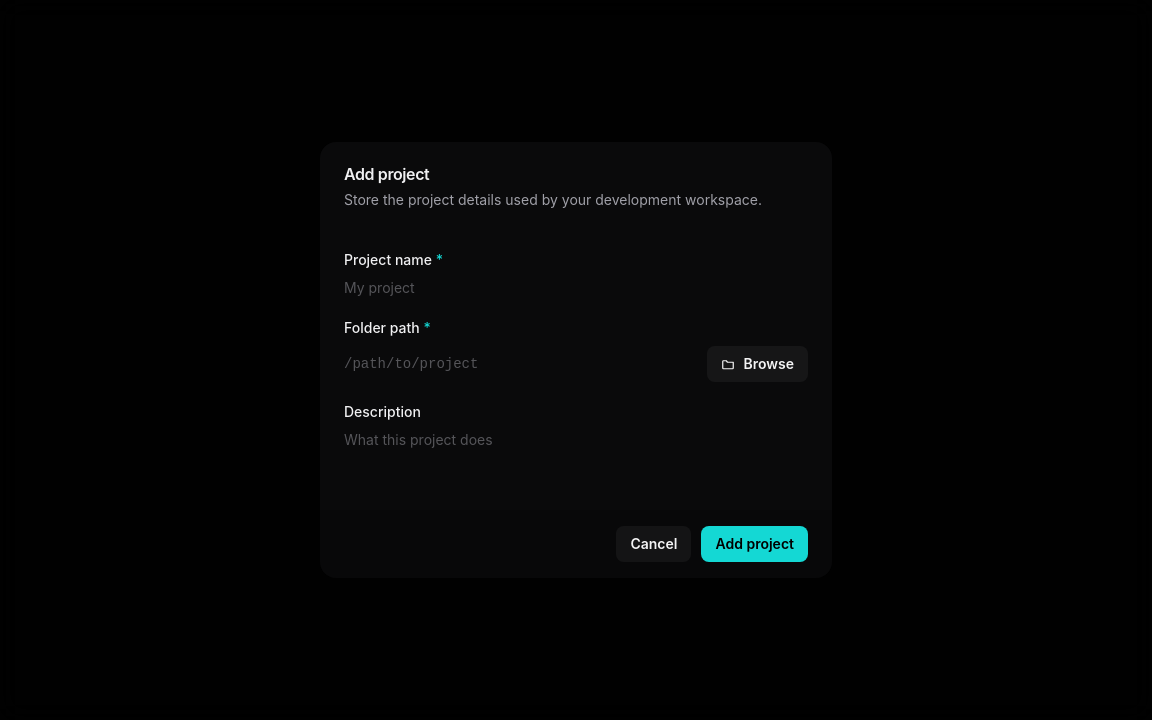
Test: ProjectFormDialog › shows the picker error message when the folder dialog rejects
What coordinates should you click on to do the following:
click the button "Browse"
I would click on:
 (758, 364)
Its box is left=708, top=346, right=808, bottom=382.
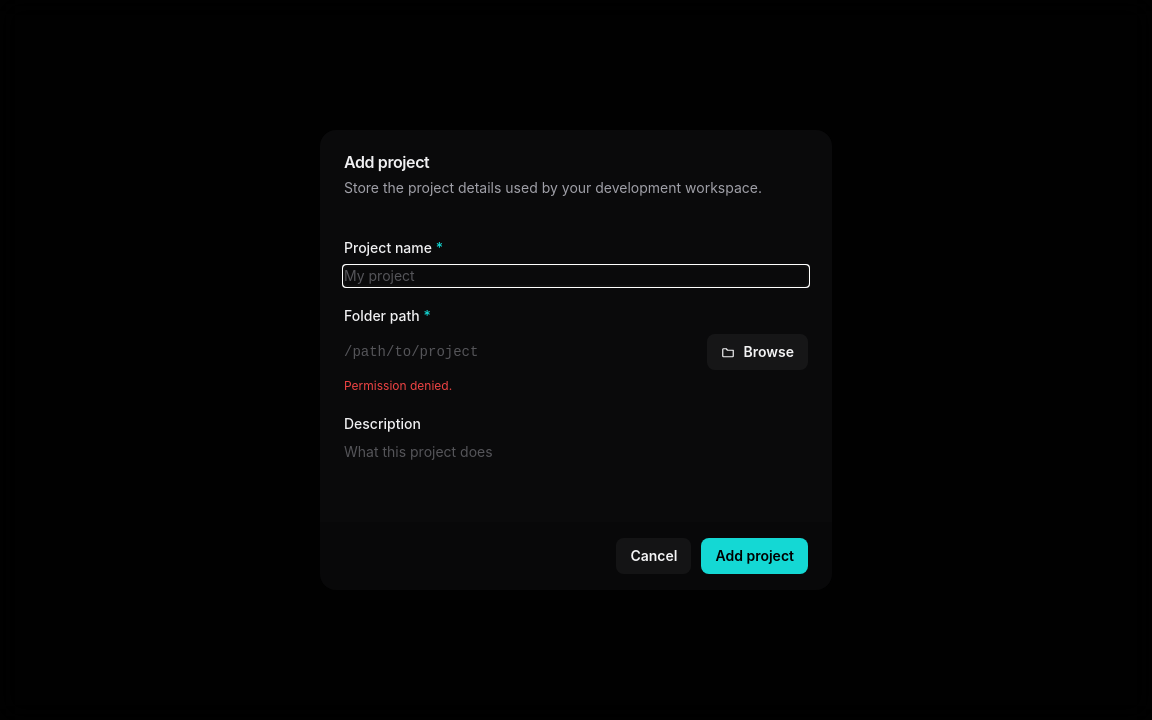
Expected: the button "Browse" is enabled, left=708, top=334, right=808, bottom=370
Expected: the text "Permission denied." is shown, left=344, top=378, right=452, bottom=393
